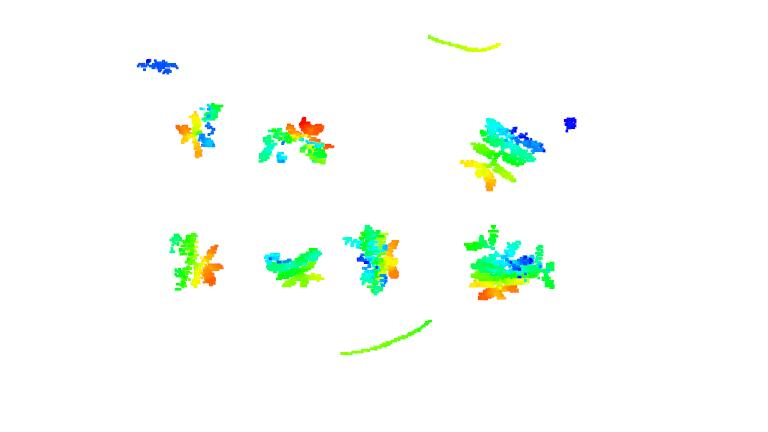chickpea: (457, 222, 560, 305), (458, 115, 547, 194), (342, 221, 403, 297), (255, 115, 336, 169), (165, 229, 225, 292), (261, 245, 330, 290), (177, 103, 225, 159)
